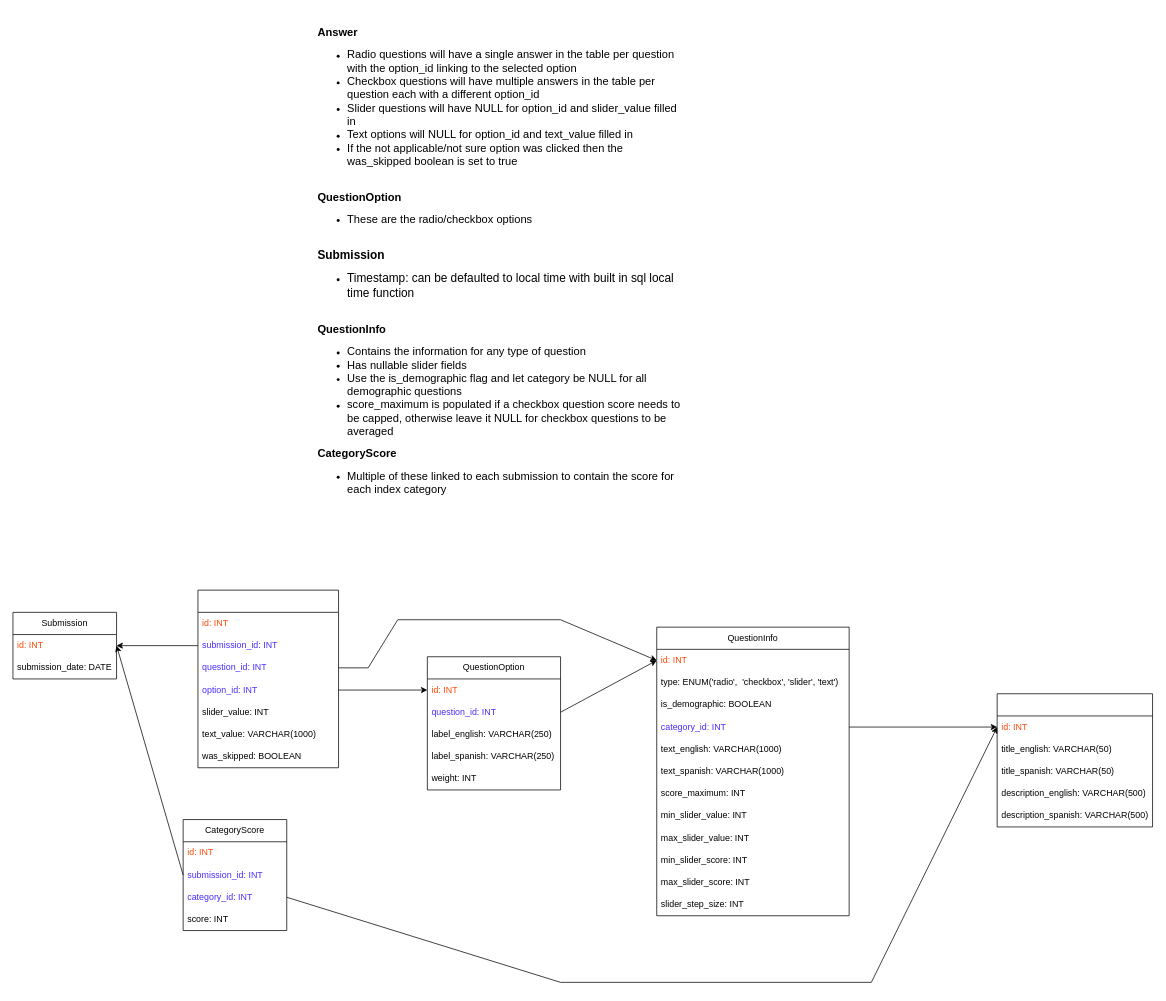
This 1166x1001 diagram has some shape labels left out. The box of each missing label's shape, as (x1, y1, x2, y2) in pixels:
Answer: (197, 589, 339, 768)
Category: (996, 693, 1153, 827)
